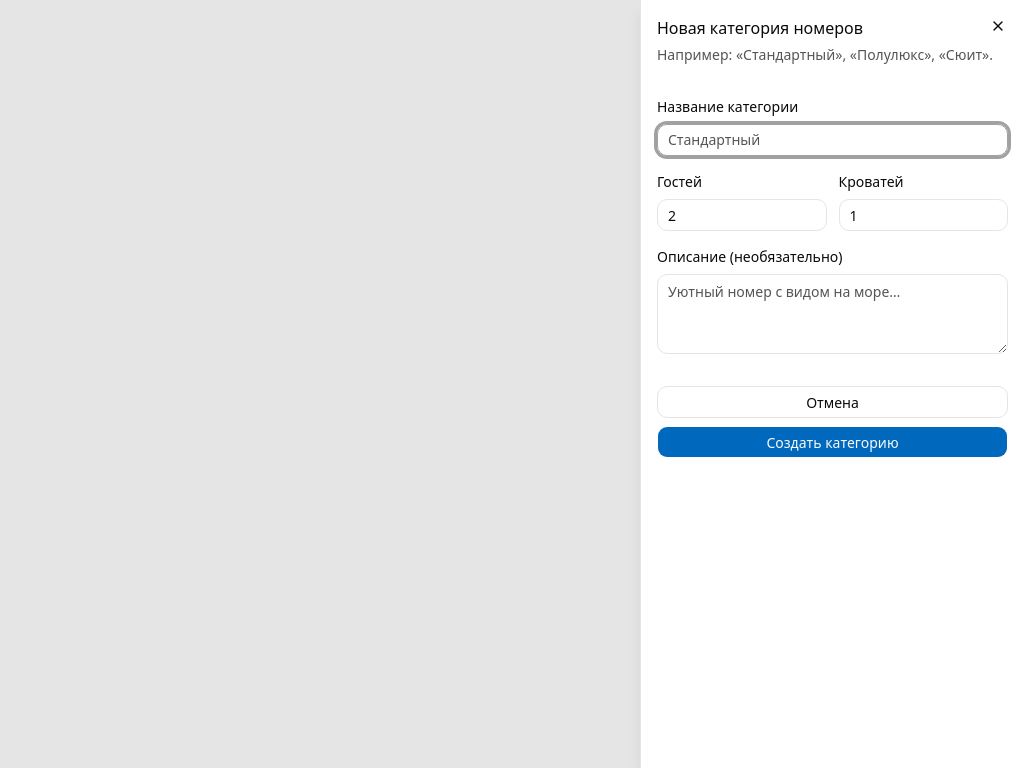
Test case: CategoryFormSheet — inline-bounds (B5) › [B1] maxOccupancy=0 surfaces «Не меньше 1»
Replace the text in the number field labelled "Гостей" with "0": (742, 215) [657,199,826,231]
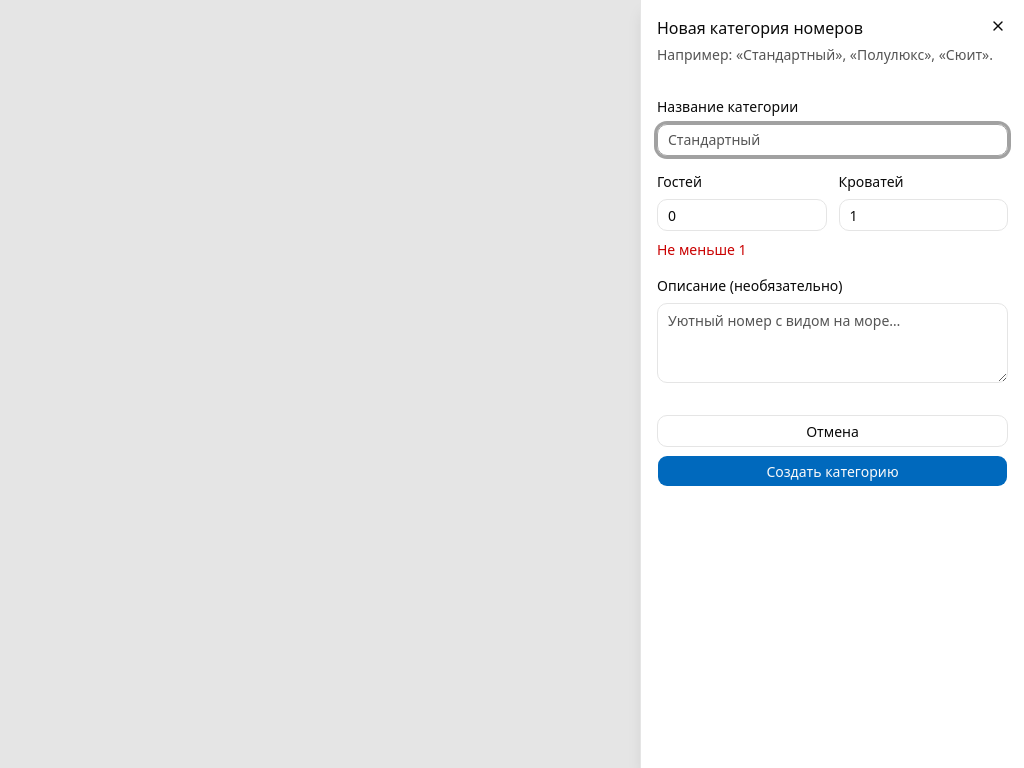
Expected: the text "Не меньше 1" is shown, [657,240,747,259]
